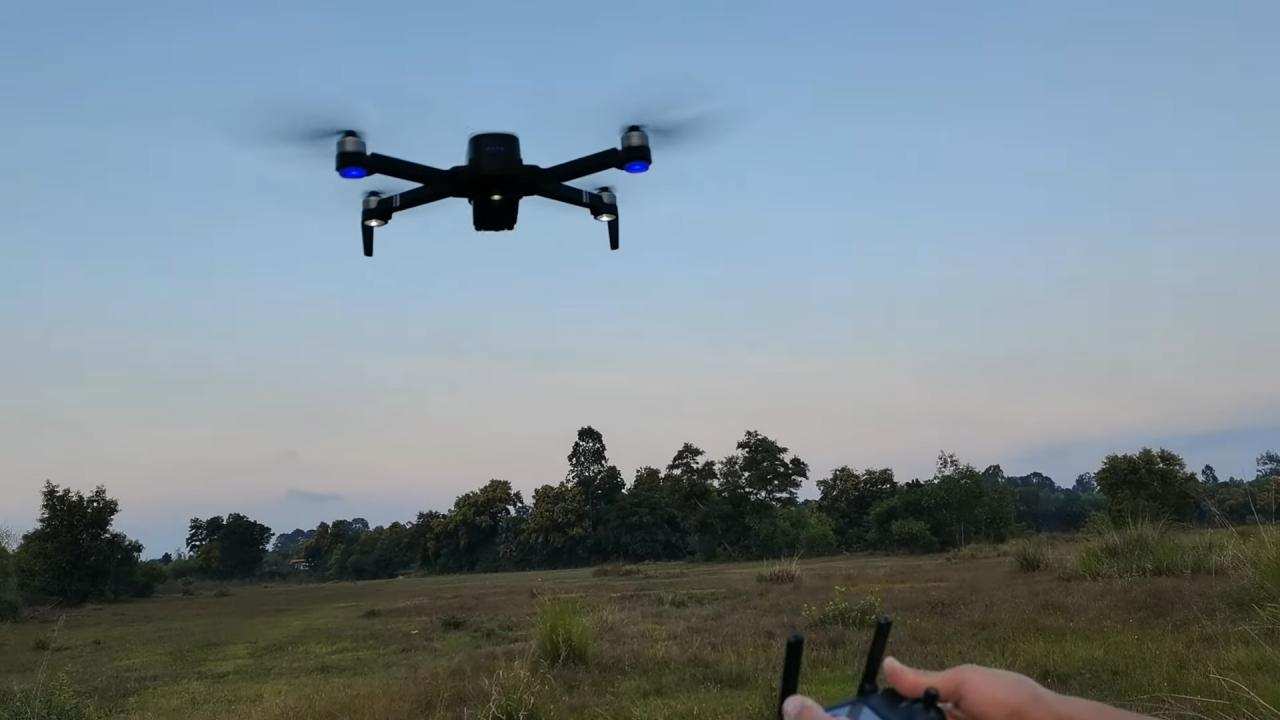Drone: (290, 96, 707, 268)
